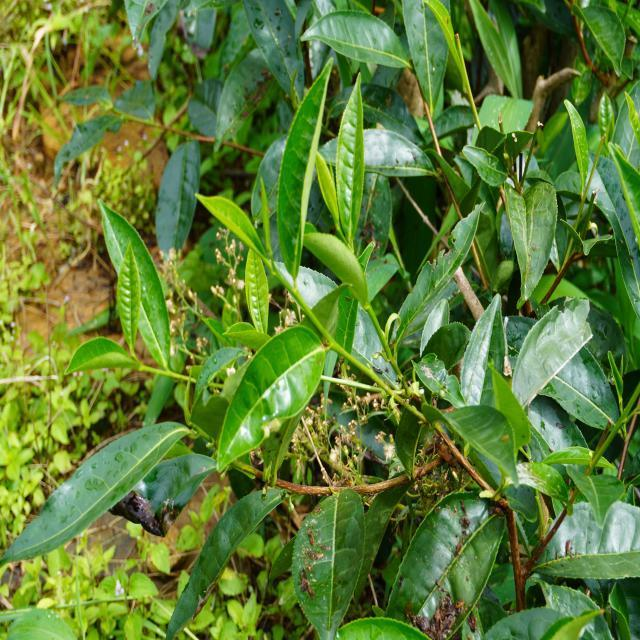Stem: (270, 265, 284, 281)
